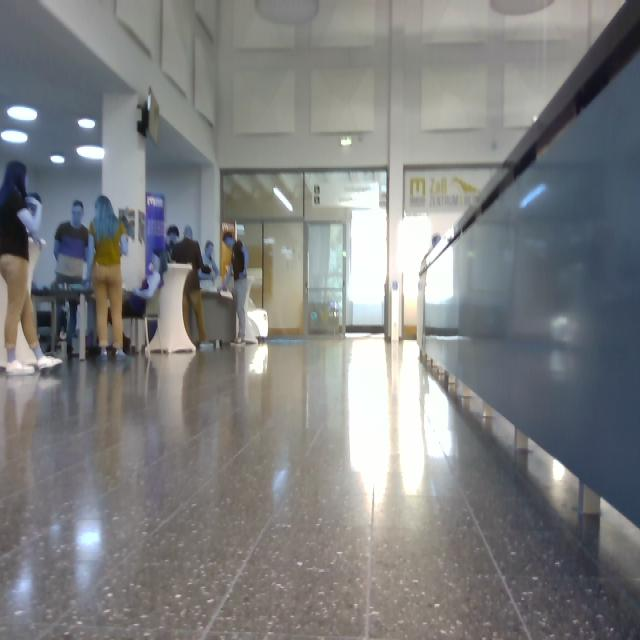door: (309, 224, 347, 334), (237, 224, 262, 309)
light bulb: (520, 184, 546, 209), (274, 188, 293, 212), (77, 146, 104, 160), (1, 130, 28, 144), (79, 530, 101, 546), (553, 460, 566, 481), (78, 118, 95, 129), (51, 154, 65, 165), (342, 136, 351, 146)
person: (1, 162, 61, 374), (89, 196, 128, 353), (172, 226, 213, 349), (55, 201, 88, 289), (223, 233, 247, 344), (66, 297, 80, 357)
tiled floor: (1, 340, 640, 640)
